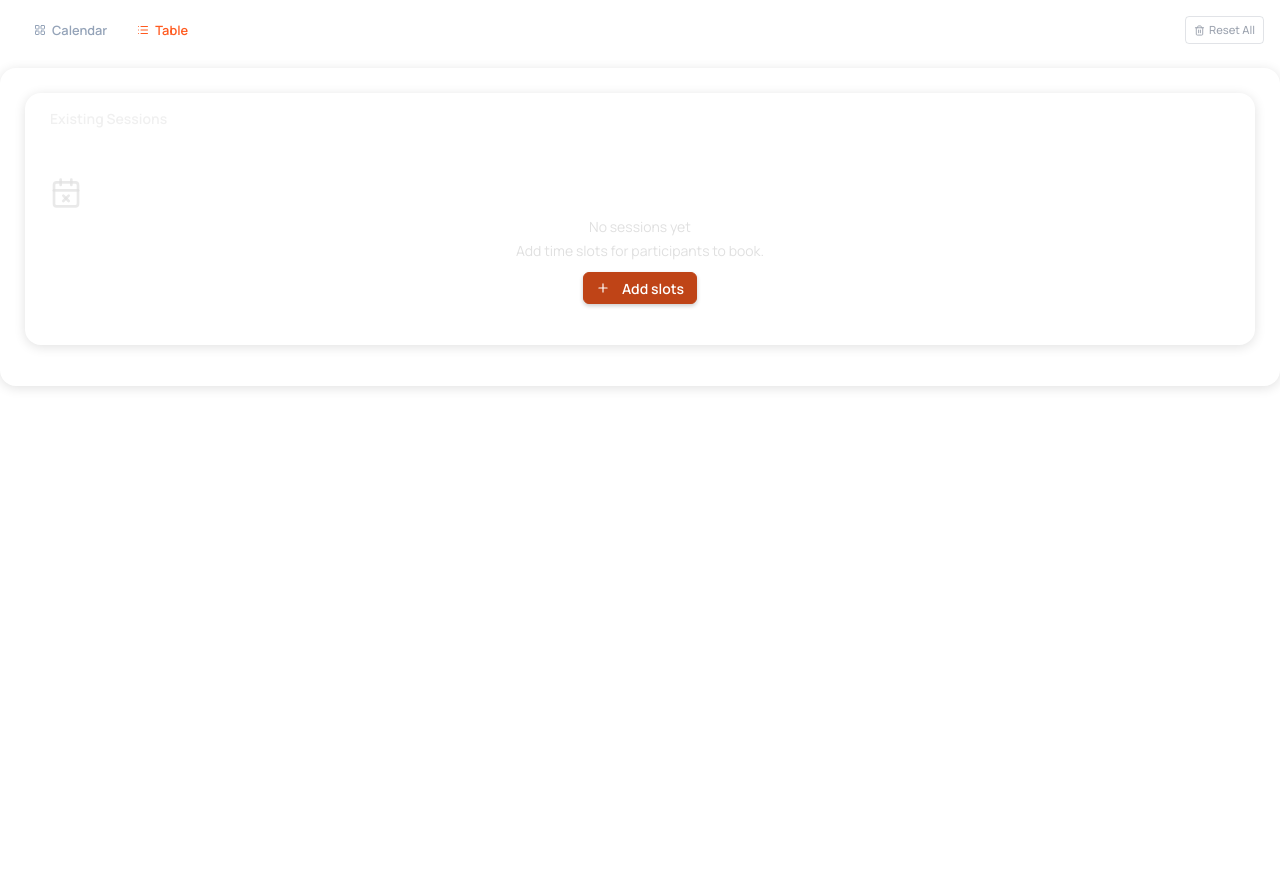
Test: Row 6 defect 5 - the list is the default view and shows existing sessions first › offers an empty state that leads to the calendar when there are no sessions
Check: the text "No sessions yet" is shown, box x1=589 y1=217 x2=691 y2=236
Click the button "Add slots": x=640, y=288 x1=583 y1=272 x2=697 y2=304
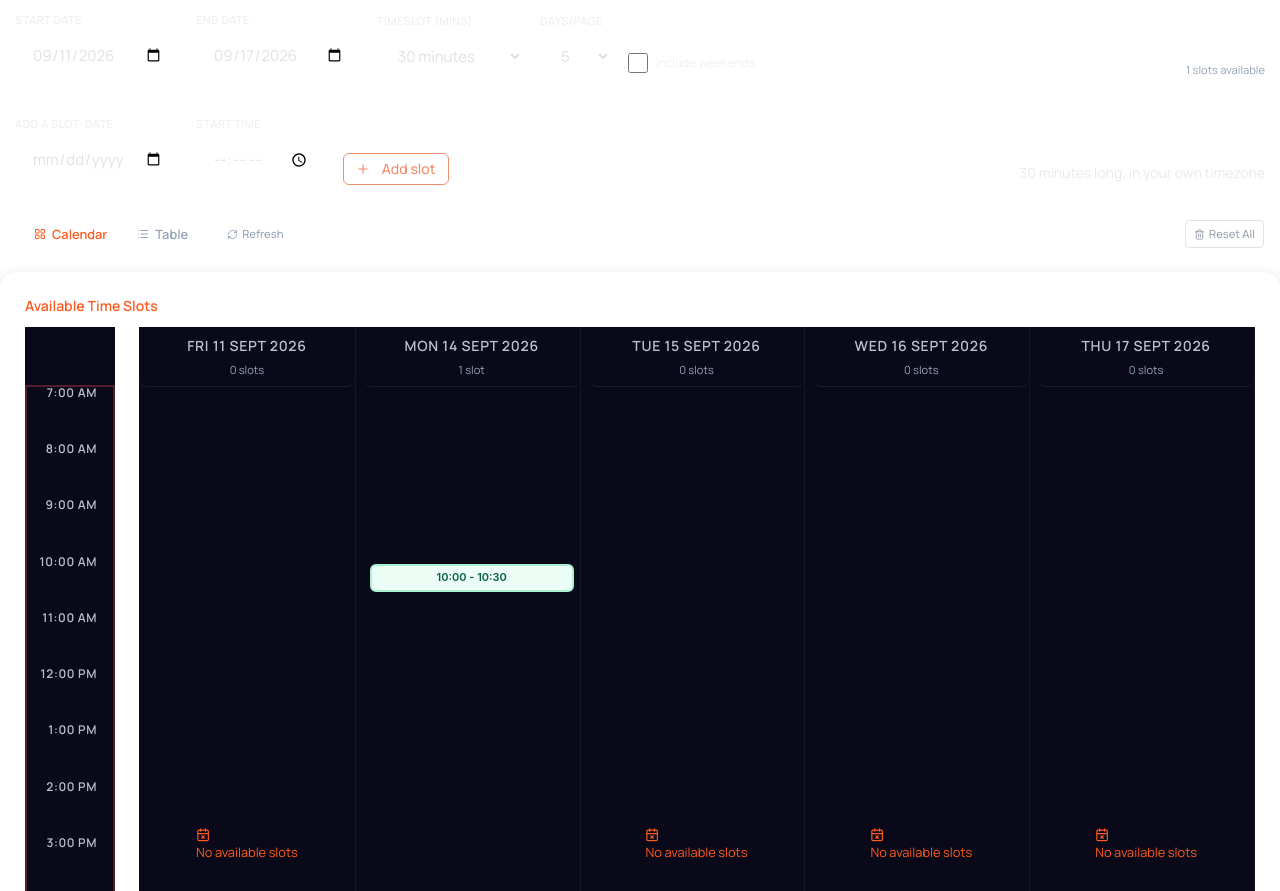
Check: the date field labelled "Start Date" is shown, box x1=15 y1=31 x2=180 y2=81
